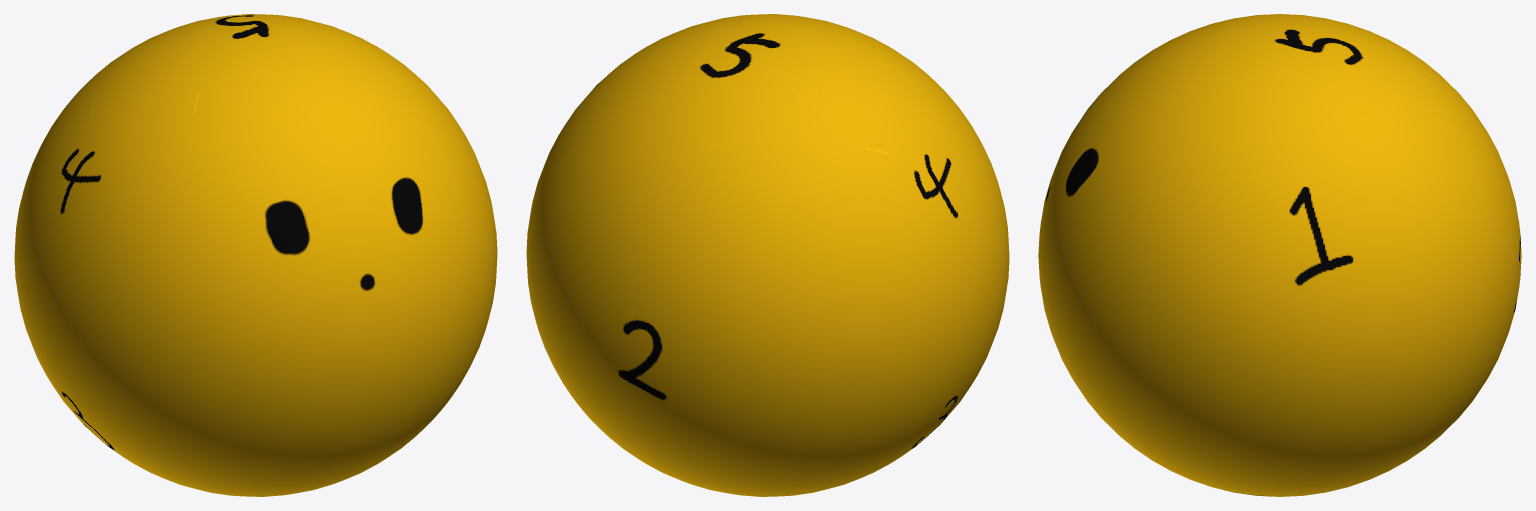
File: smilesphere.glb
3 views of the same model, side by side, from view 1: azimuth 30°, elevation 25°; view 2: azimuth 150°, elevation 25°; view 3: azimuth 270°, elevation 25° (orthographic).
Parts seen in each view (by area): view 1: 立方体; view 2: 立方体; view 3: 立方体.
Boxes of the visible parts, bbox=[...] form: 立方体: bbox=[14, 14, 497, 496]; 立方体: bbox=[526, 14, 1009, 496]; 立方体: bbox=[1038, 14, 1521, 496].
Size of the model in its own units: 1.71 by 1.71 by 1.71.
1 material, 1 textured.
